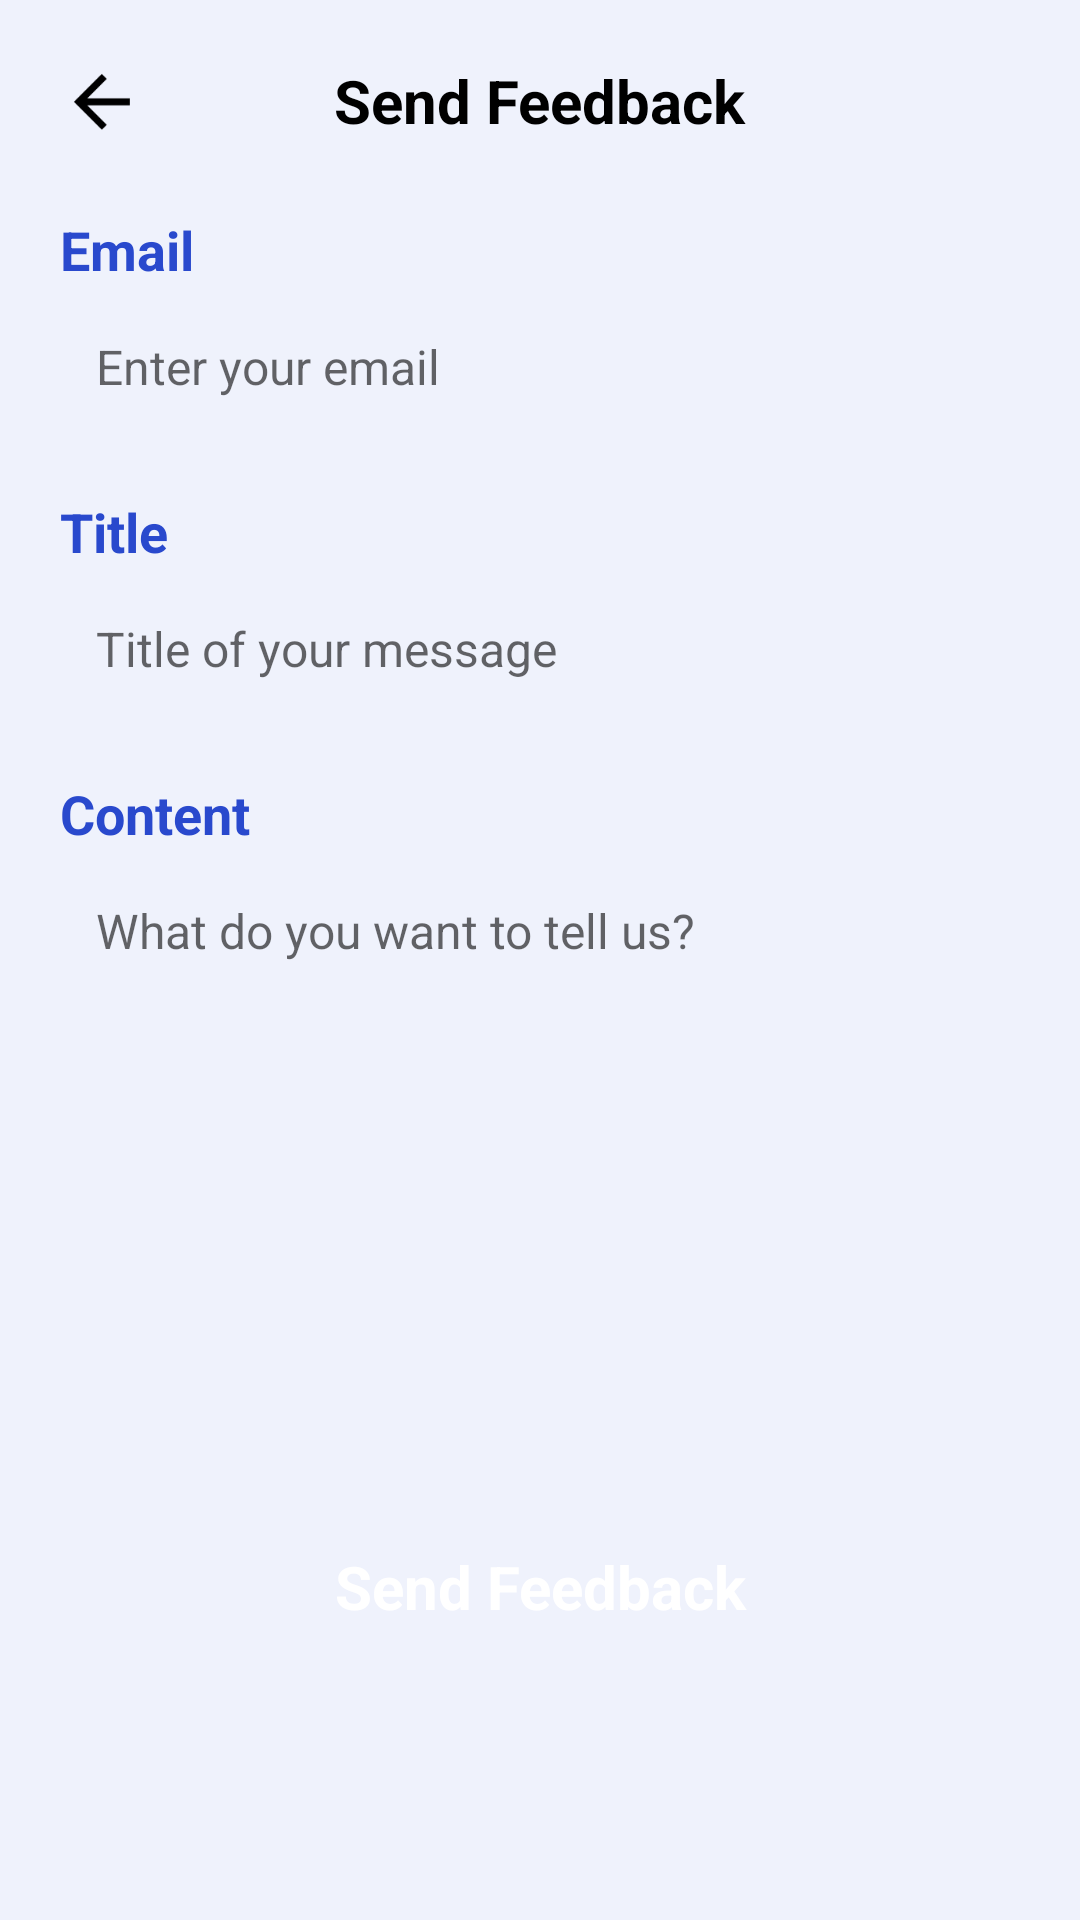

Icon bounding boxes for this 1080x1920 phone screenshot, format [x1,y1,x2,y2]:
back: [74,74,130,130]
